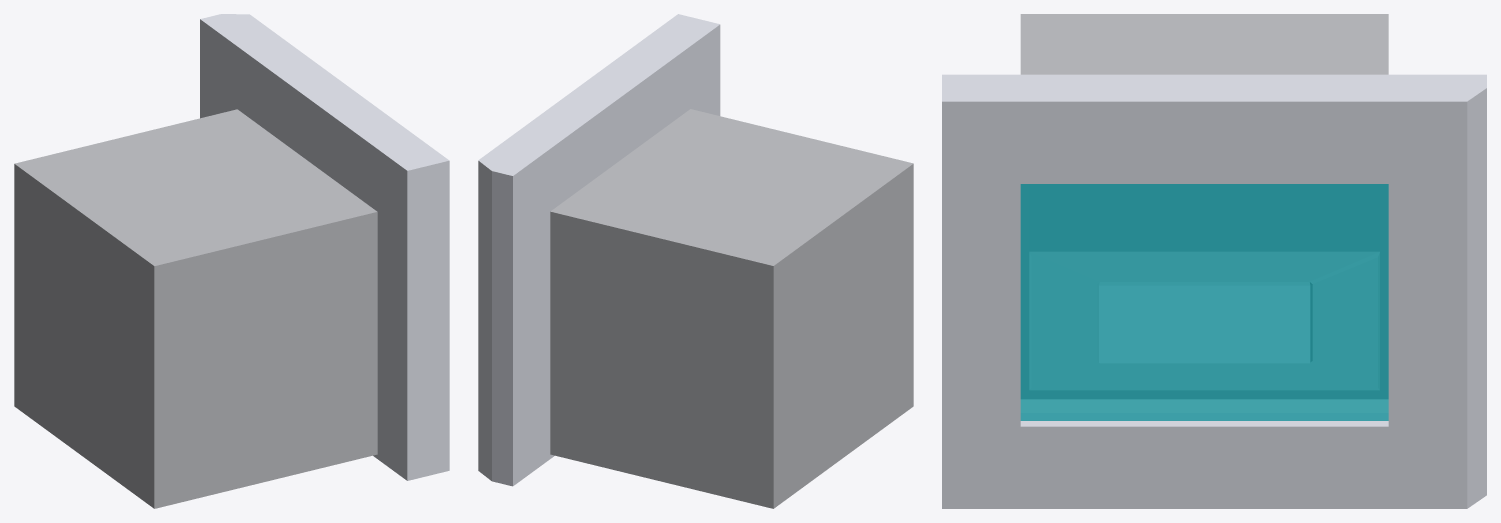
File: chute.glb
3 views of the same model, side by side, from view 1: azimuth 30°, elevation 25°; view 2: azimuth 150°, elevation 25°; view 3: azimuth 270°, elevation 25° (orthographic). The views are drawn at different scales.
Parts seen in each view (by area): view 1: chute; view 2: chute; view 3: chute, panel.
Part boxes in pixels (bbox=[...]): chute: bbox=[14, 14, 449, 508]; chute: bbox=[478, 14, 913, 508]; chute: bbox=[942, 14, 1486, 508]; panel: bbox=[1099, 286, 1309, 362].
Bounding box in the file's own units: 0.3928 × 0.4388 × 0.5317.
